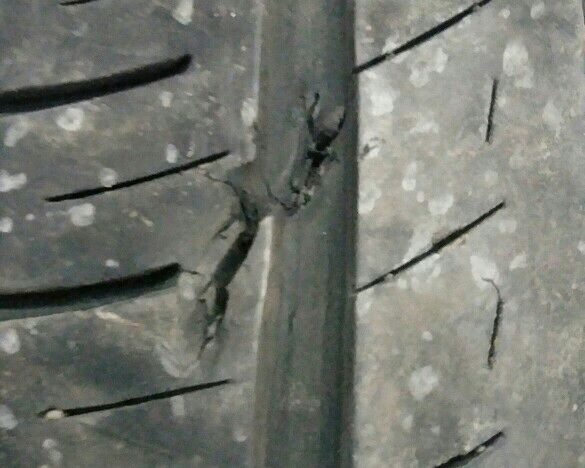tr: (197, 93, 347, 352)
